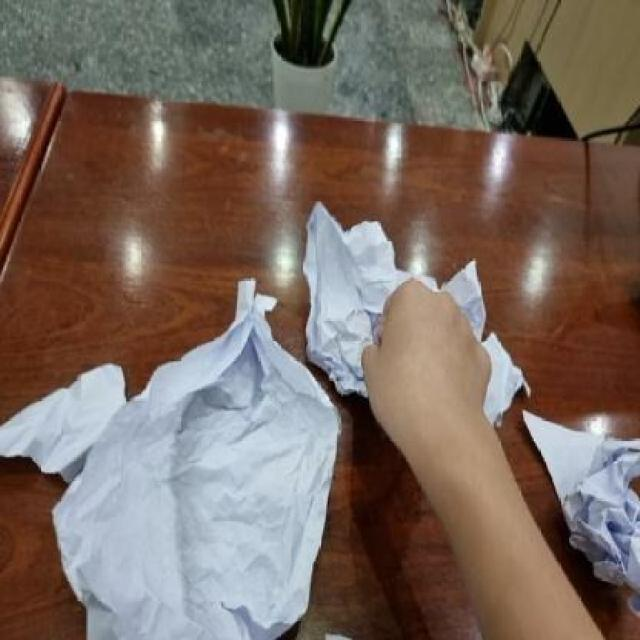trash: (53, 274, 349, 640), (295, 198, 522, 417), (509, 402, 640, 592), (1, 357, 121, 489)
